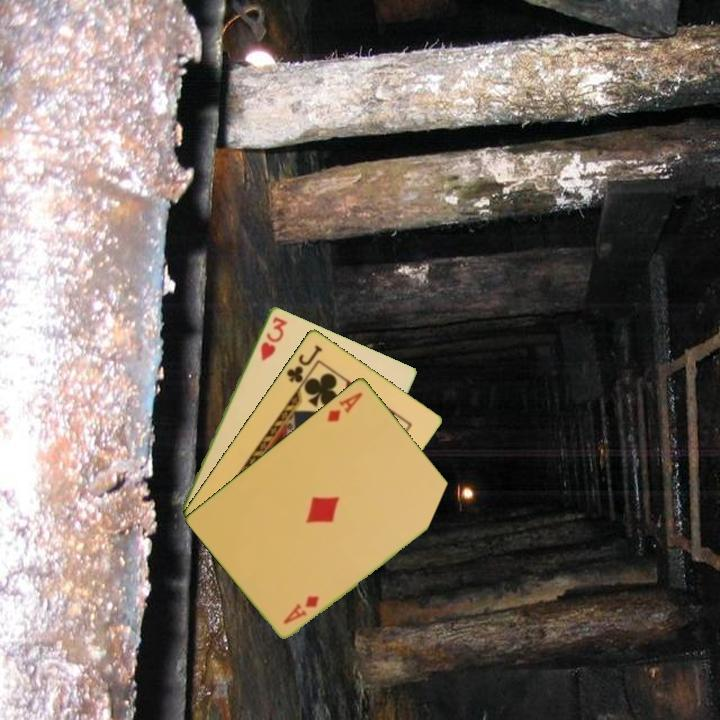3h: (257, 313, 290, 363)
Ad: (323, 388, 365, 425), (280, 592, 322, 627)
Jc: (283, 341, 326, 386)
